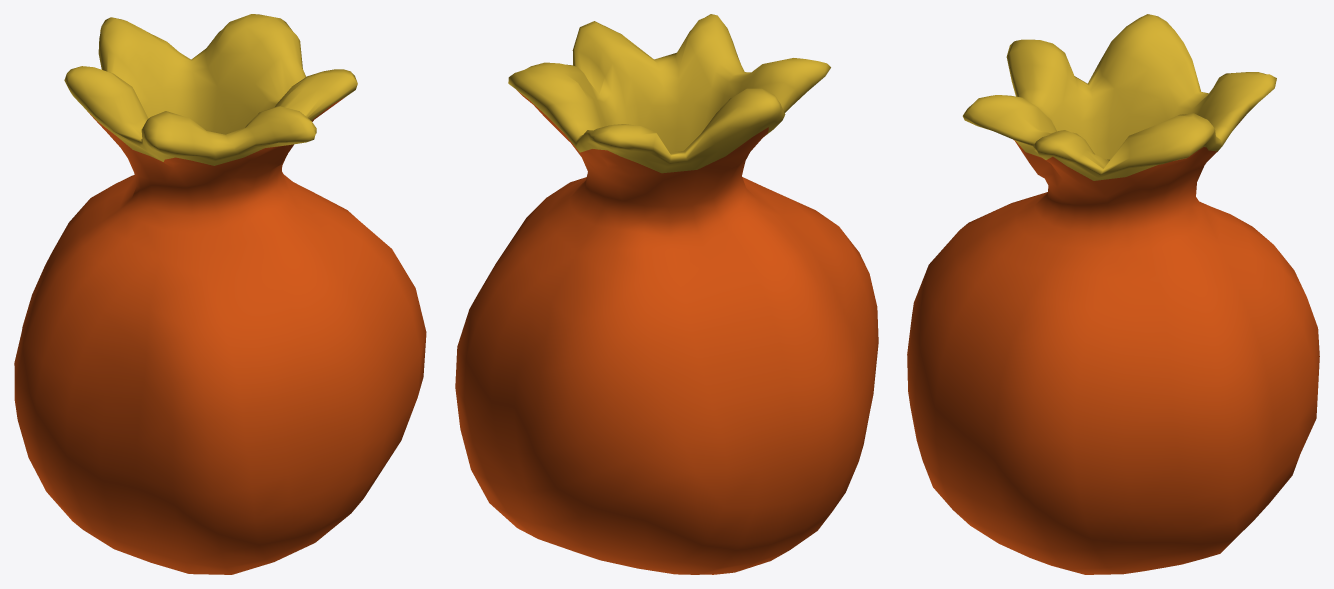
Rendered from shiliu.fbx.
3 views of the same model, side by side, from view 1: azimuth 30°, elevation 25°; view 2: azimuth 150°, elevation 25°; view 3: azimuth 270°, elevation 25° (orthographic). The views are drawn at different scales.
Parts seen in each view (by area): view 1: Sphere001_Retopo; view 2: Sphere001_Retopo; view 3: Sphere001_Retopo.
Boxes of the visible parts, box(x1,y1,x2,y2) form: Sphere001_Retopo: box(14, 14, 426, 574); Sphere001_Retopo: box(455, 14, 878, 574); Sphere001_Retopo: box(907, 14, 1319, 574).
Size of the model in its own units: 2.29 by 3.03 by 2.32.
